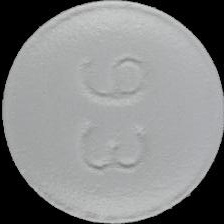42291-272: (0, 0, 224, 224)
